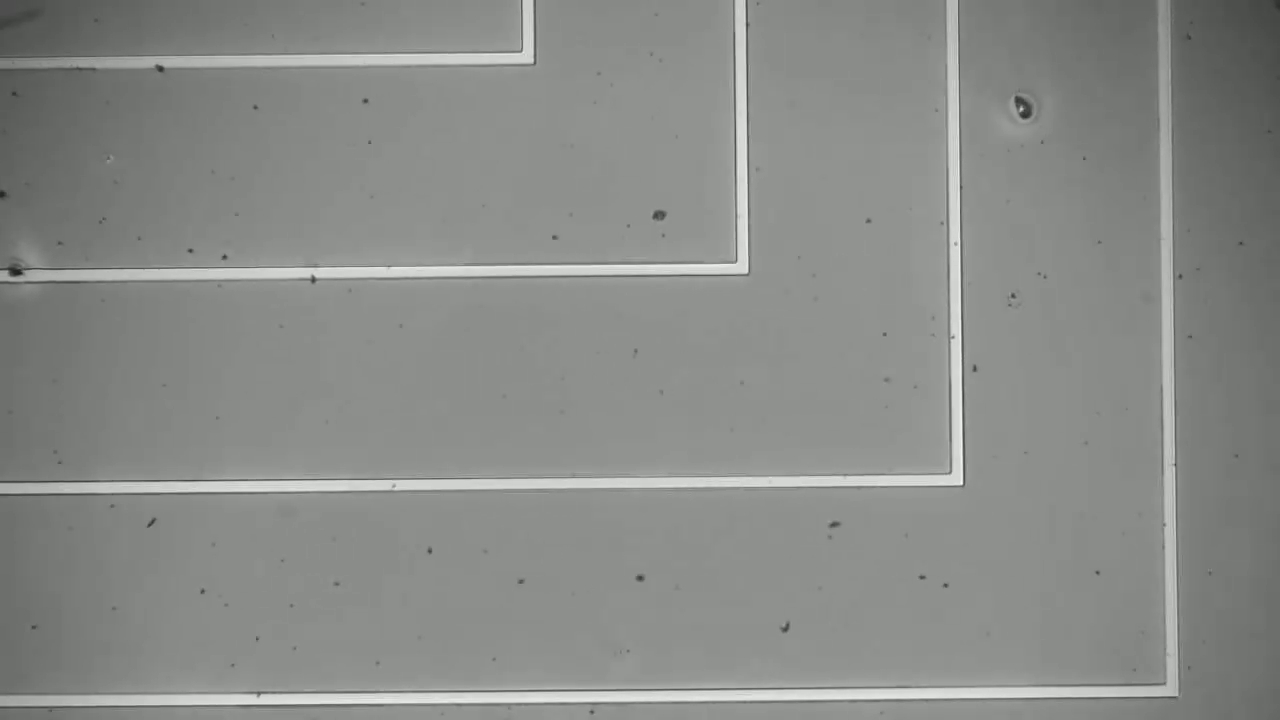stains_enbedded: (1, 256, 41, 288)
